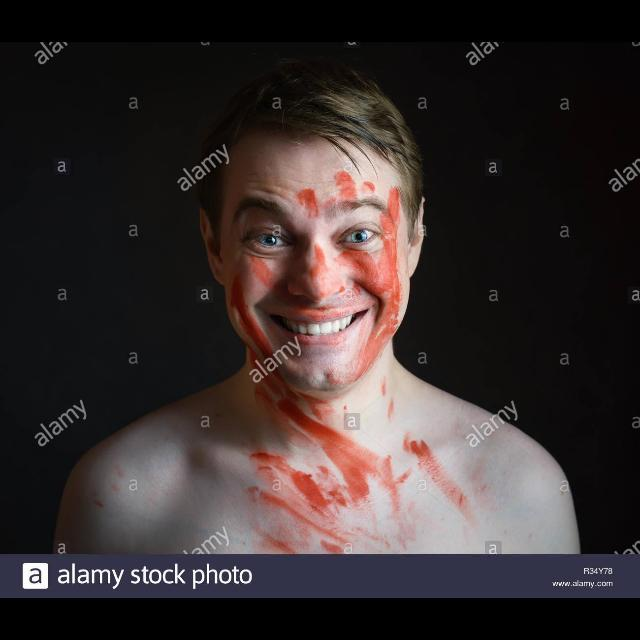blood: (229, 169, 483, 558)
